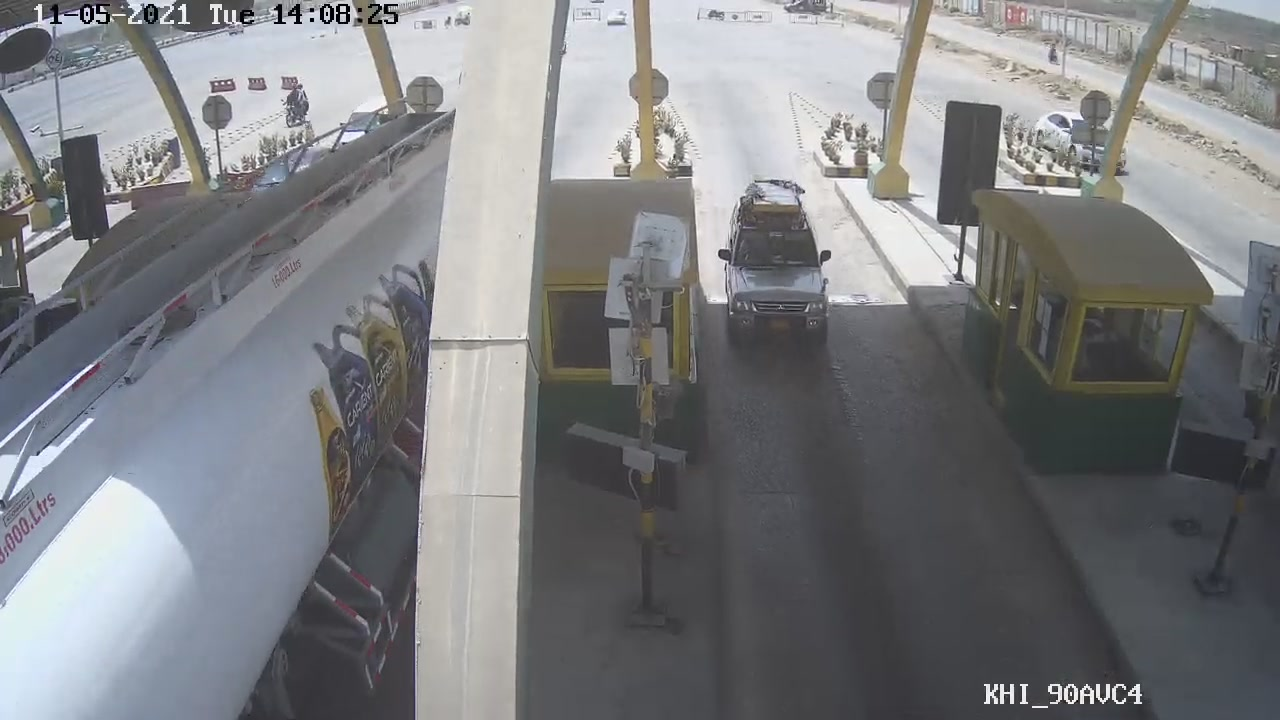F1: (710, 176, 837, 357)
